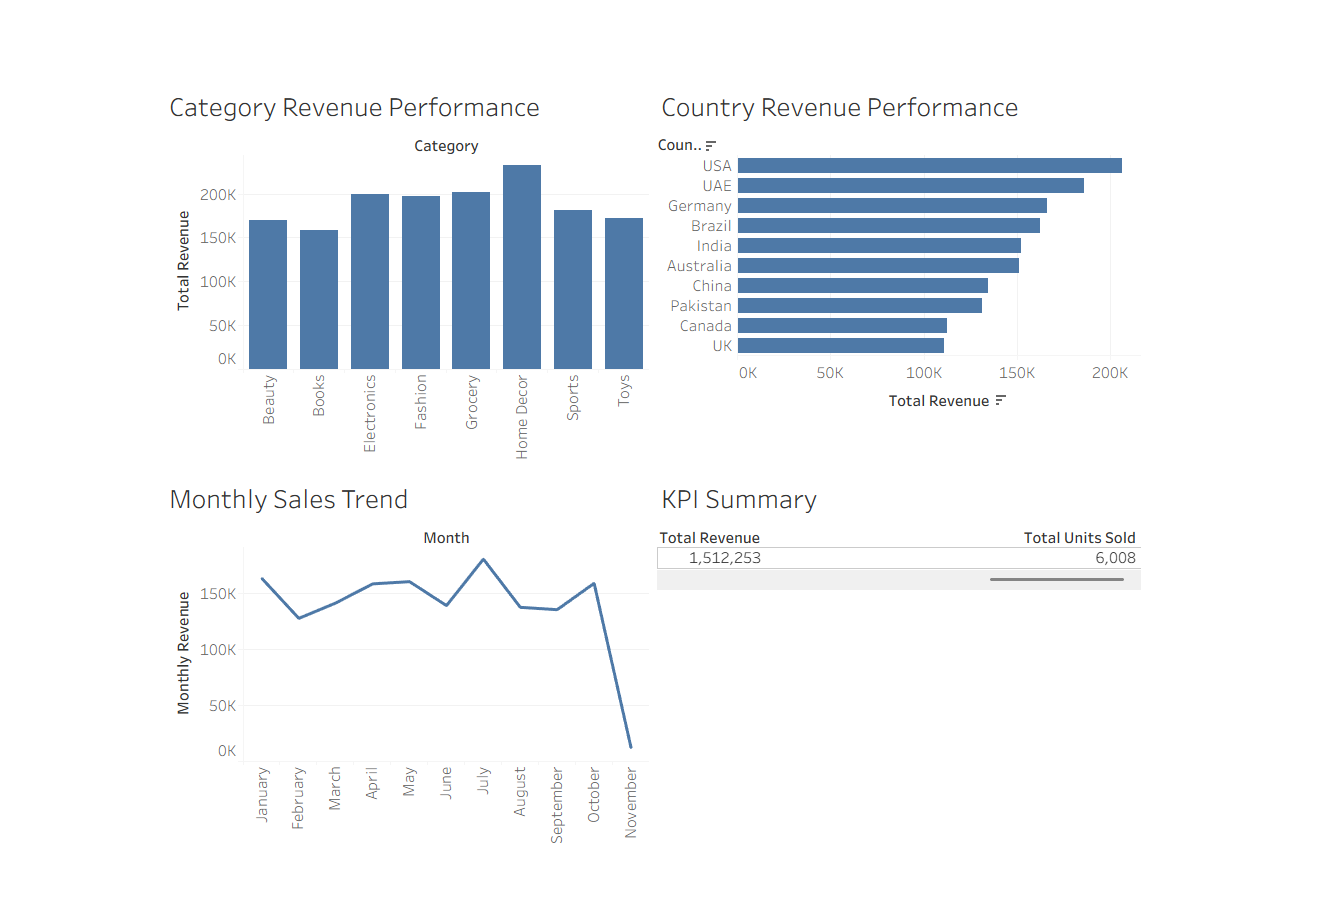

Layout of this report page (visuals, bound fields, positions):
{"tool":"tableau","page":{"name":"Dashboard 1","canvas":[1000,800],"ordinal":0},"visuals":[{"type":"worksheet","title":"Category Revenue Performance","mark":"Automatic","rows":["TOTAL_REVENUE"],"cols":["CATEGORY"],"box":[8,8,492,392]},{"type":"worksheet","title":"Country Revenue Performance","mark":"Automatic","rows":["COUNTRY"],"cols":["TOTAL_REVENUE"],"box":[500,8,492,392]},{"type":"worksheet","title":"Monthly Sales Trend","mark":"Automatic","rows":["MONTHLY_REVENUE"],"cols":["MONTH"],"box":[8,400,492,392]},{"type":"worksheet","title":"KPI Summary","mark":"Automatic","box":[500,400,492,392]}]}

Visuals, with their boxes on the page's 1000x800 design canvas (x1, y1, x2, y2). These are canvas units, not pixel positions in the 1338x916 screenshot, which may show the page scaled, cropped or inside an application window:
"Category Revenue Performance" worksheet: {"left": 8, "top": 8, "right": 500, "bottom": 400}
"Country Revenue Performance" worksheet: {"left": 500, "top": 8, "right": 992, "bottom": 400}
"Monthly Sales Trend" worksheet: {"left": 8, "top": 400, "right": 500, "bottom": 792}
"KPI Summary" worksheet: {"left": 500, "top": 400, "right": 992, "bottom": 792}
